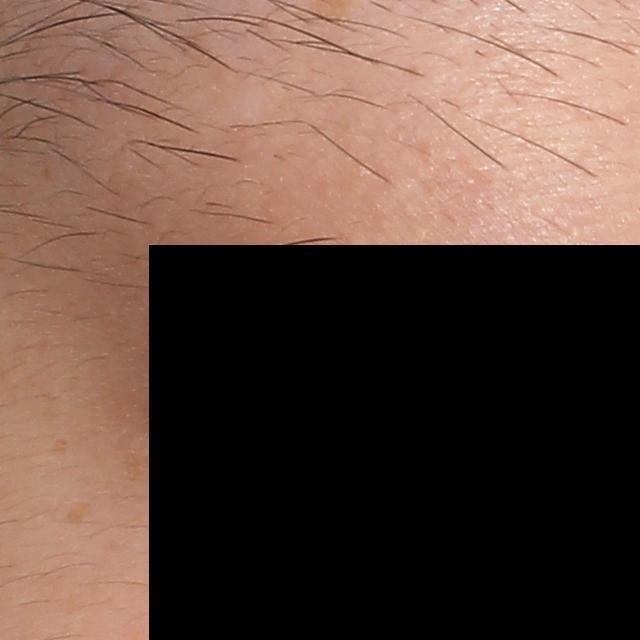melasma: (61, 499, 97, 523), (49, 434, 70, 455)
